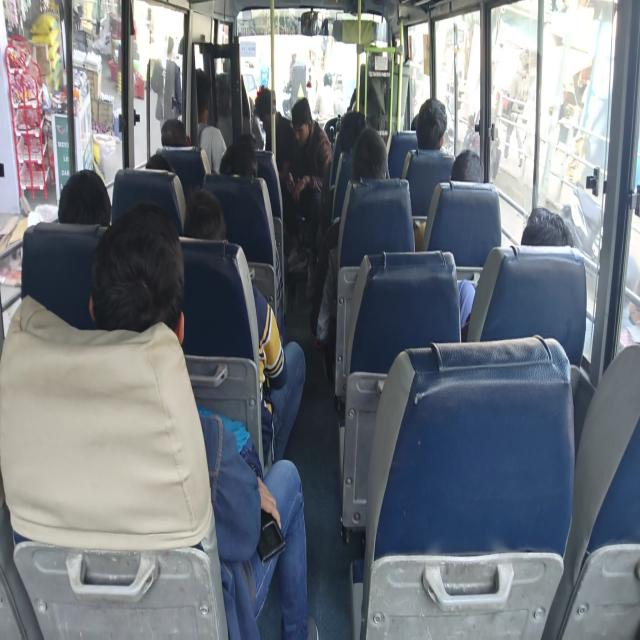person: (99, 252, 193, 353), (56, 178, 112, 232), (411, 96, 452, 160), (524, 211, 574, 257), (182, 203, 226, 250), (453, 144, 494, 190), (182, 64, 211, 115), (222, 144, 258, 183), (356, 134, 382, 185), (283, 100, 316, 140), (218, 41, 248, 83), (356, 48, 386, 86), (147, 149, 176, 184), (159, 112, 182, 145), (341, 118, 362, 152), (234, 128, 259, 151), (259, 98, 276, 128)
